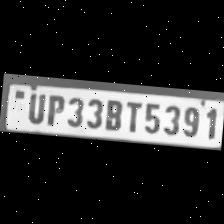1: (198, 106, 220, 140)
3: (62, 93, 86, 128), (159, 102, 182, 136), (82, 94, 104, 129)
5: (139, 98, 163, 134)
9: (178, 104, 202, 138)
B: (101, 96, 125, 132)
P: (43, 91, 65, 127)
T: (120, 98, 142, 134)
U: (22, 90, 46, 124)
